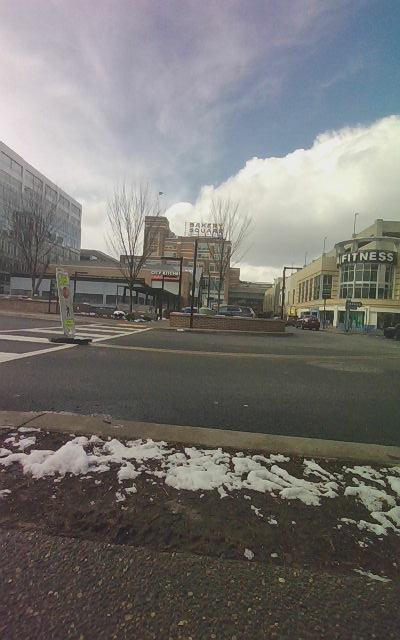curb: (0, 411, 399, 639)
road: (2, 318, 399, 445)
